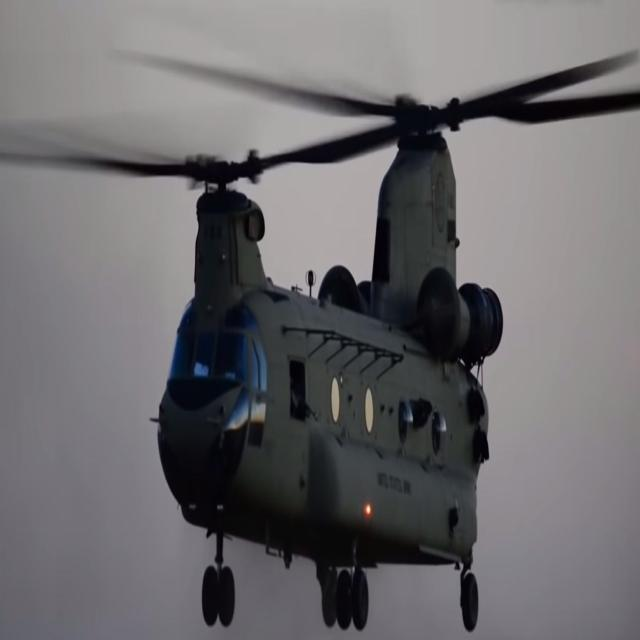Helicopter: (108, 115, 565, 640)
